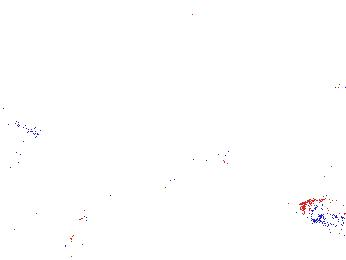X-ray fish: (302, 198, 342, 222), (1, 1, 43, 11)
glassfish: (148, 142, 250, 199), (66, 173, 122, 255)
